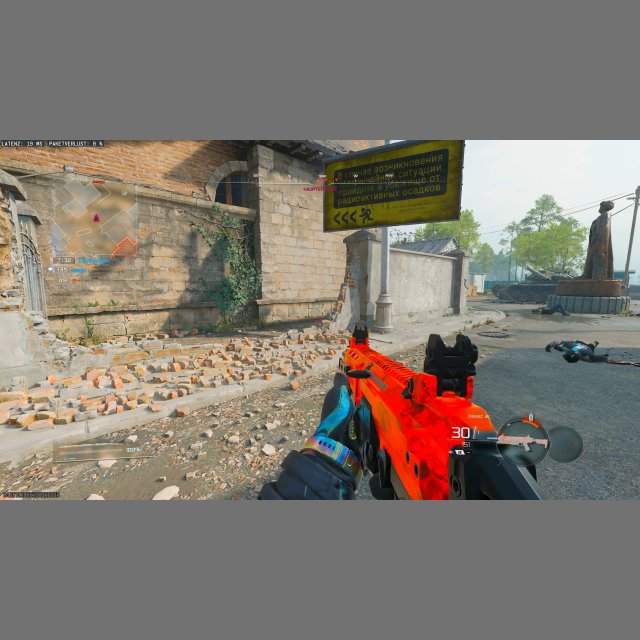player: (544, 338, 600, 363)
